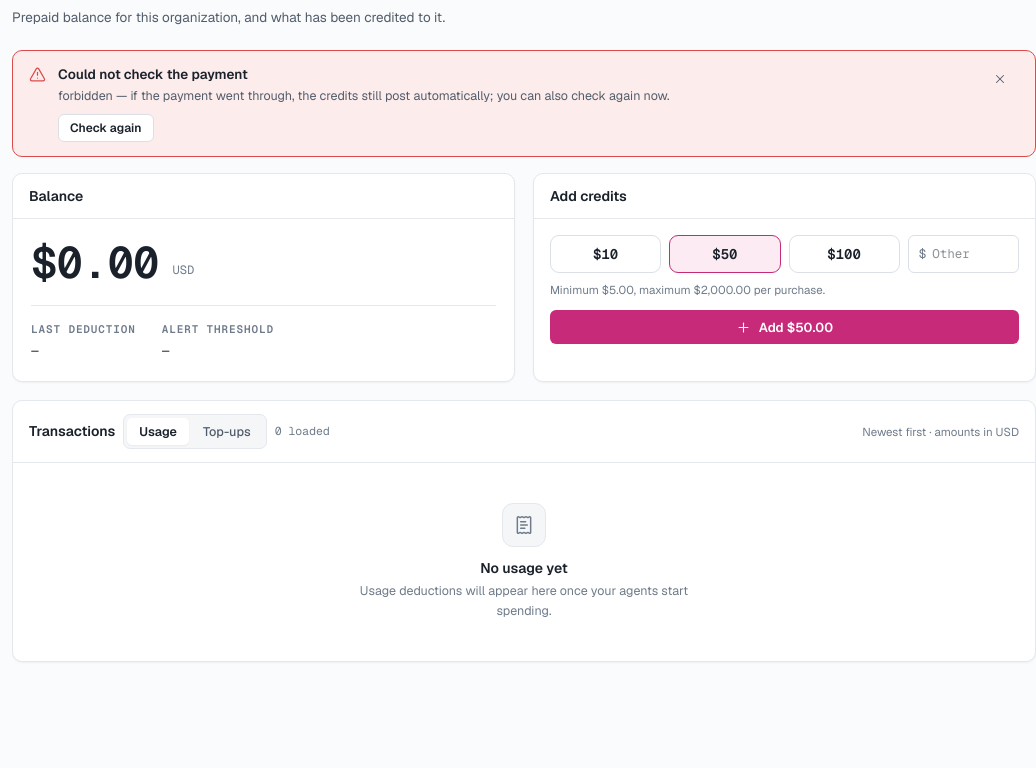
Scenario: checkout return: transient poll failures › a permanent refusal keeps the purchase id and offers a manual retry
Click the button "Check again": (106, 128) [58, 114, 154, 142]
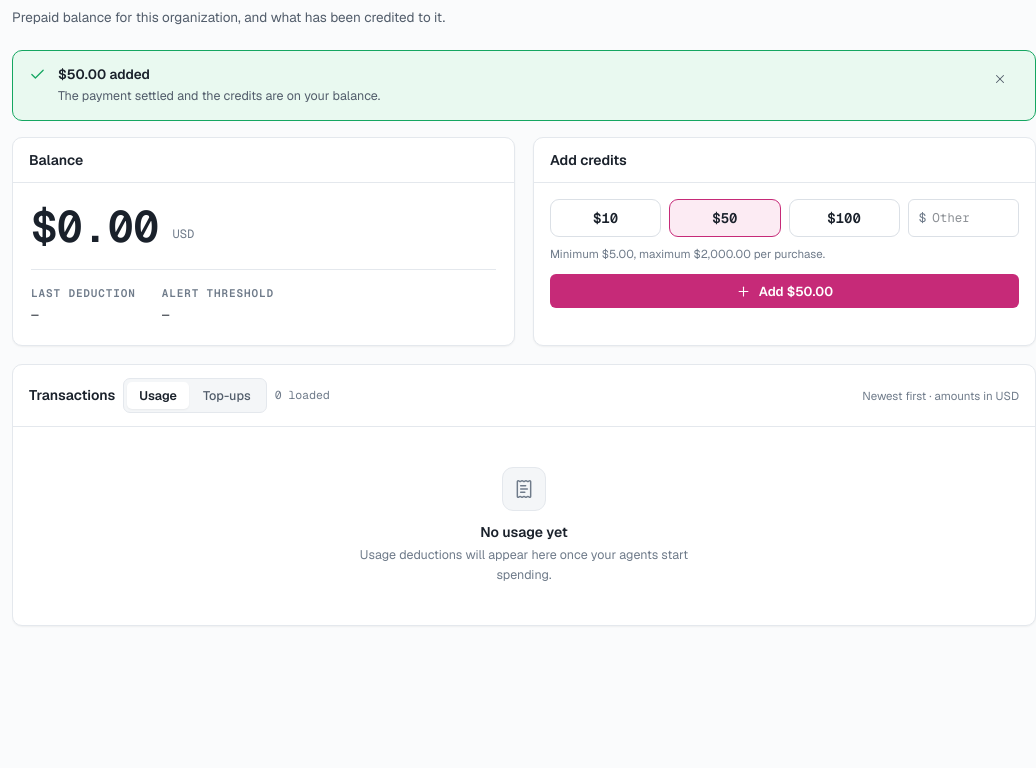
Now the text "$50.00 added" is shown, box [58, 65, 150, 83]
